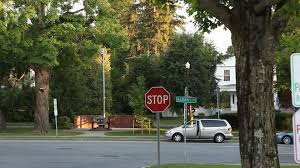Stop: (143, 81, 183, 121)
